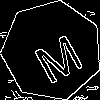M: (27, 25, 86, 85)
